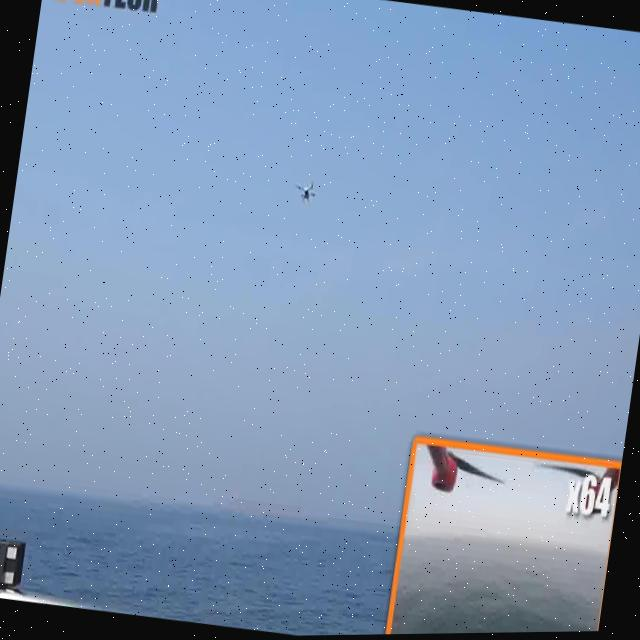drone: (266, 148, 348, 234)
